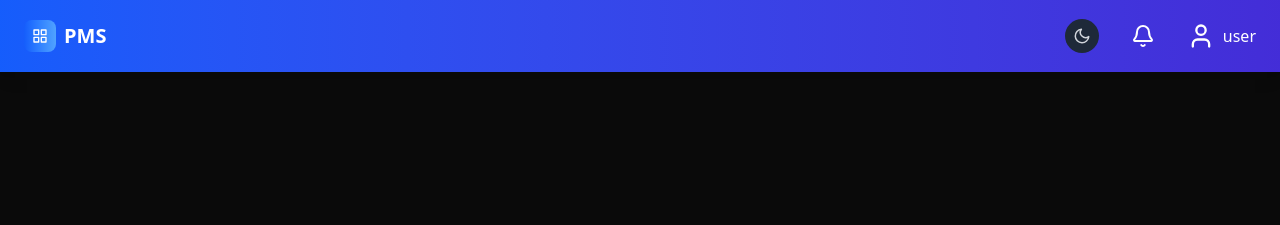
Header component › exibe 'Nenhuma notificação' quando não houver notificações
Click the button named "Notificações". click: (1143, 36)
box: [1123,16,1163,56]
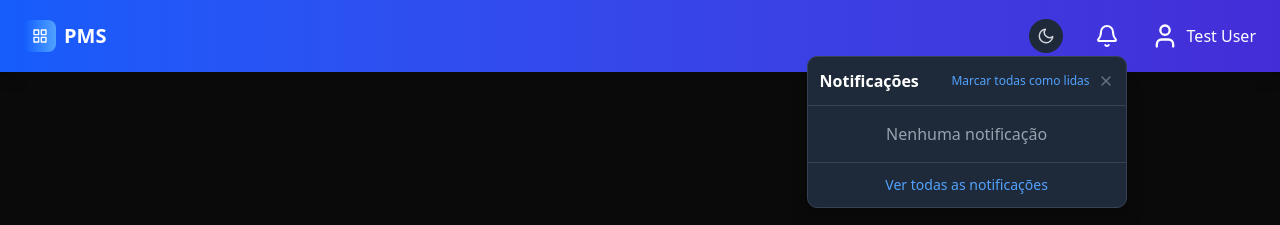
Expected: the text "Nenhuma notificação" is shown, [886,123,1047,145]
